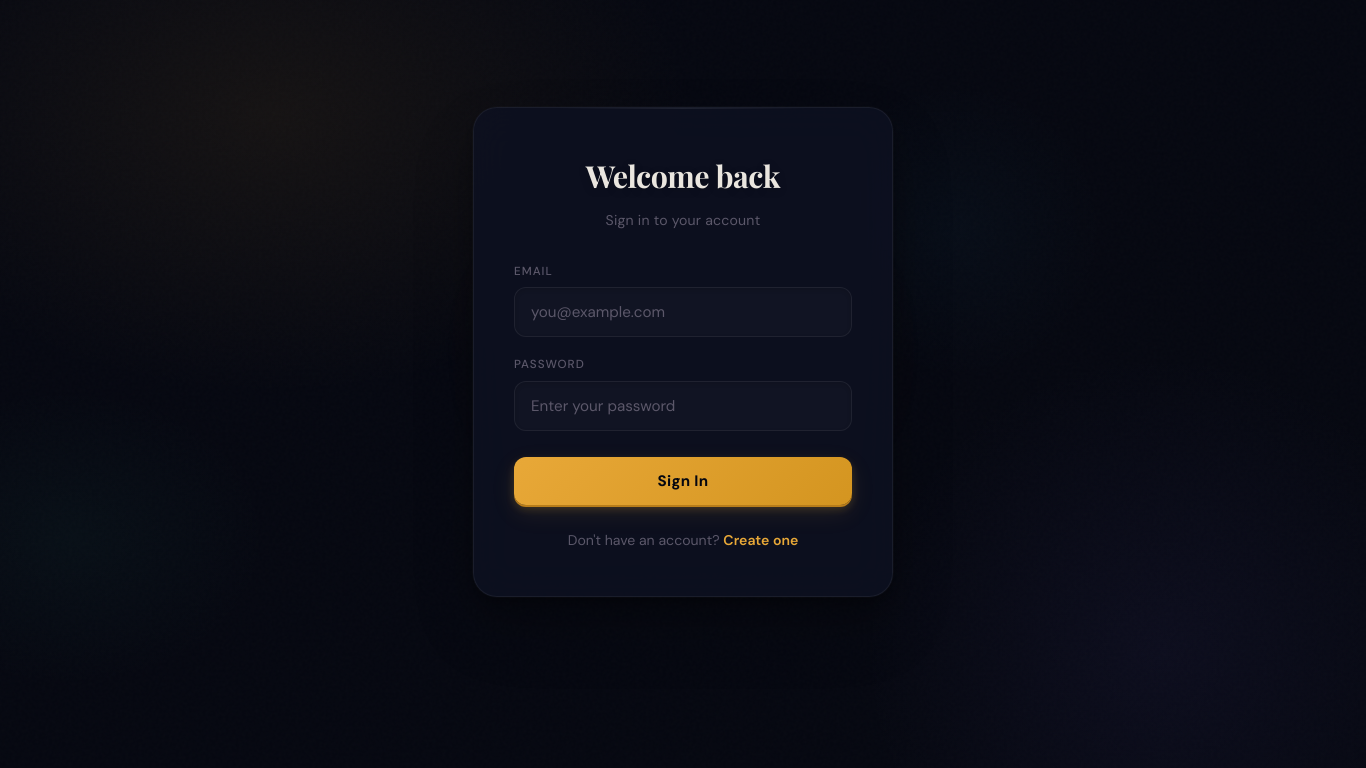
Login › shows error when login fails with response error
Type "a@b.com" into the field with placeholder "you@example.com" at (683, 312), box [514,287,852,337]
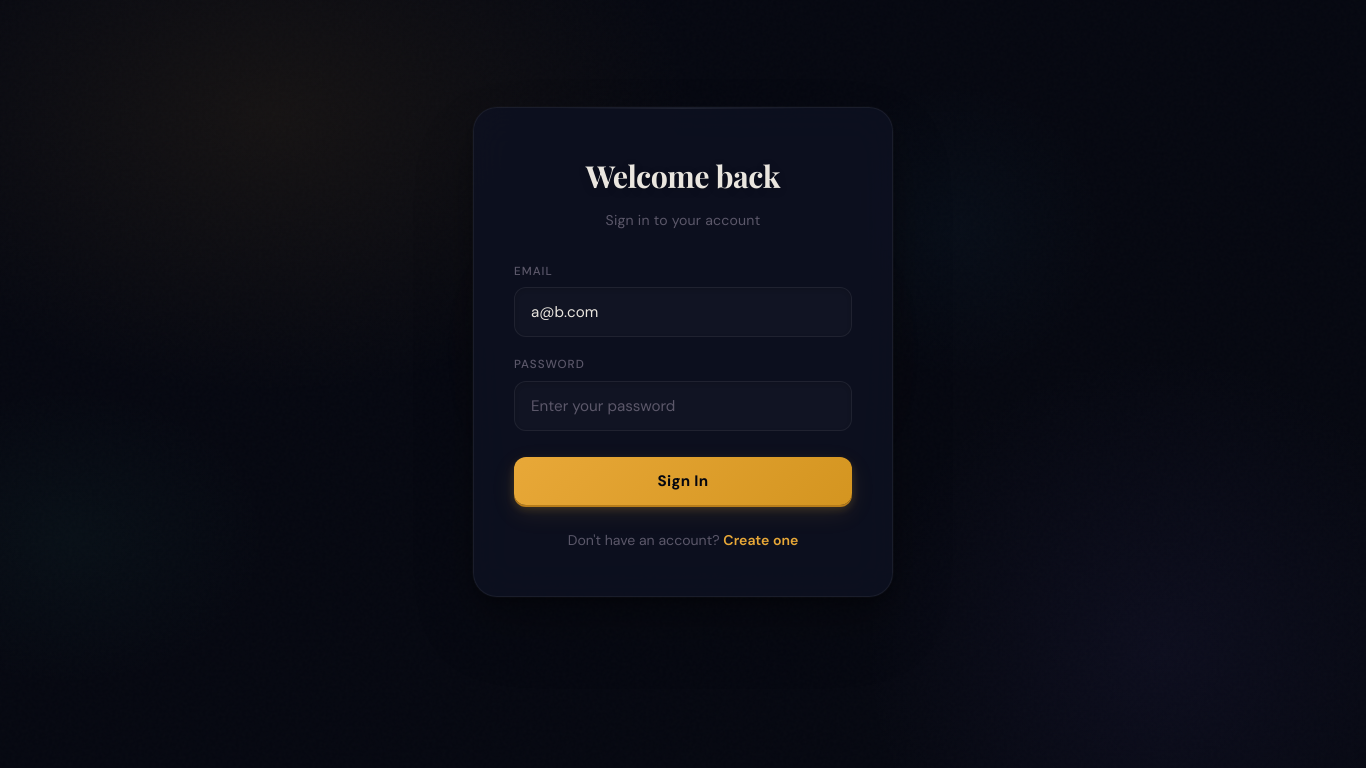
Type "wrong" into the password field with placeholder "Enter your password" at (683, 406), box [514,381,852,431]
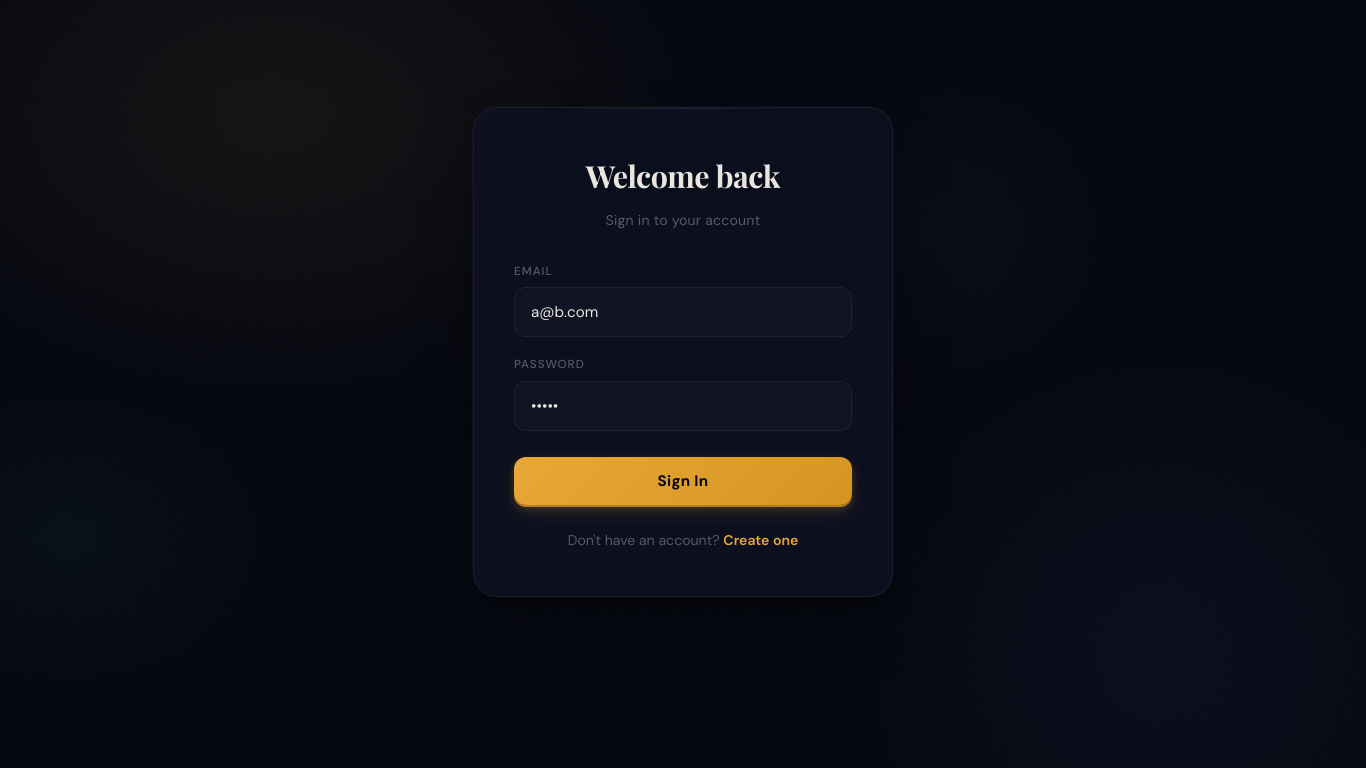
Click the button "Sign In" at (683, 481), box [514,457,852,505]
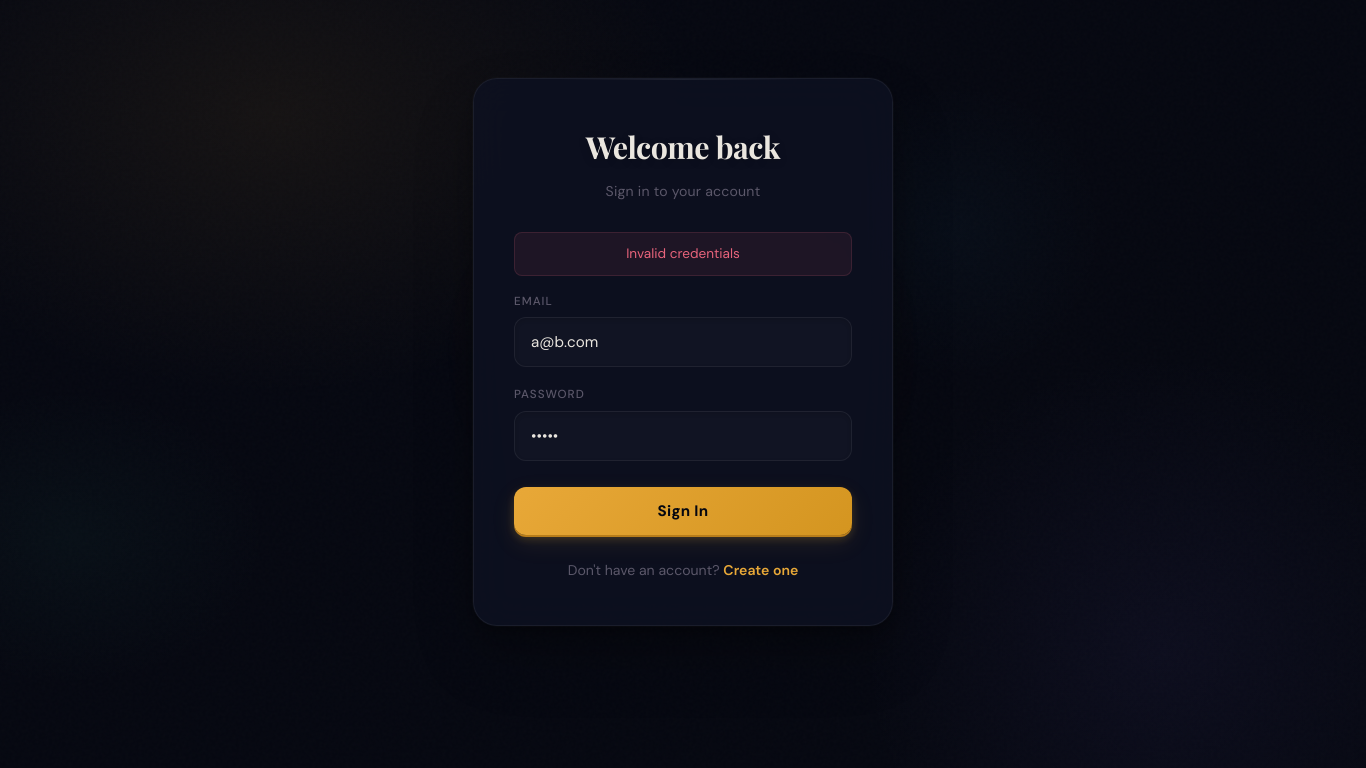
Check: the text "Invalid credentials" is shown, box [514,232,852,276]
